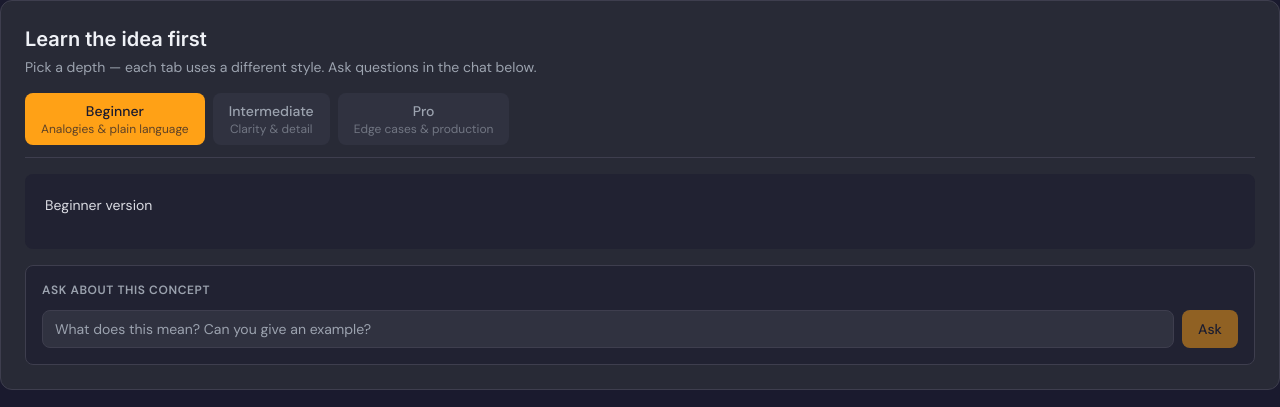
Test: ExplanationPanel › fetches again when switching to intermediate tab
The width and height of the screenshot is (1280, 407).
expect the text "Beginner version" is shown: met, box 45,196 -> 152,214
What coordinates should you click on to do the following:
click the tab "Intermediate Clarity & detail"
I would click on:
 (271, 119)
Its box is 213,93 -> 330,145.
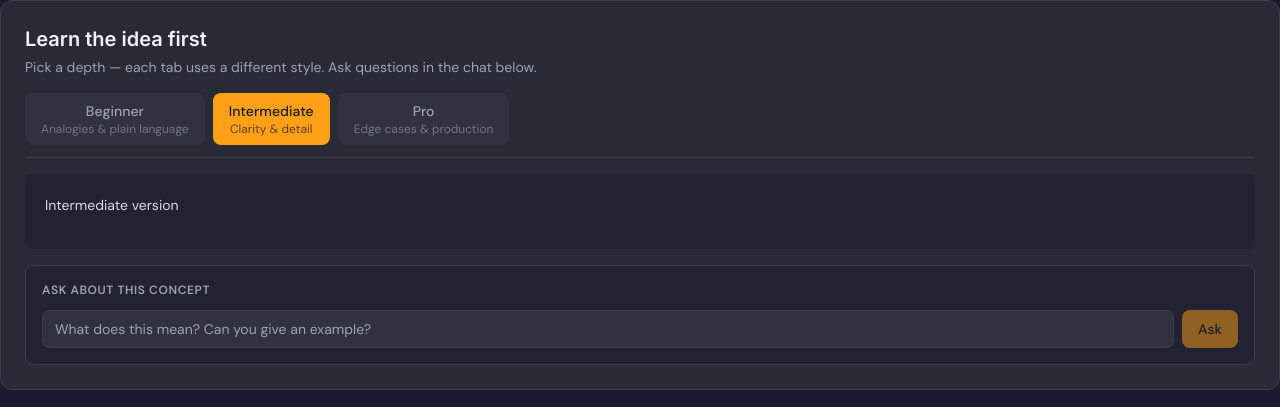
expect the text "Intermediate version" is shown: met, box 45,196 -> 179,214
